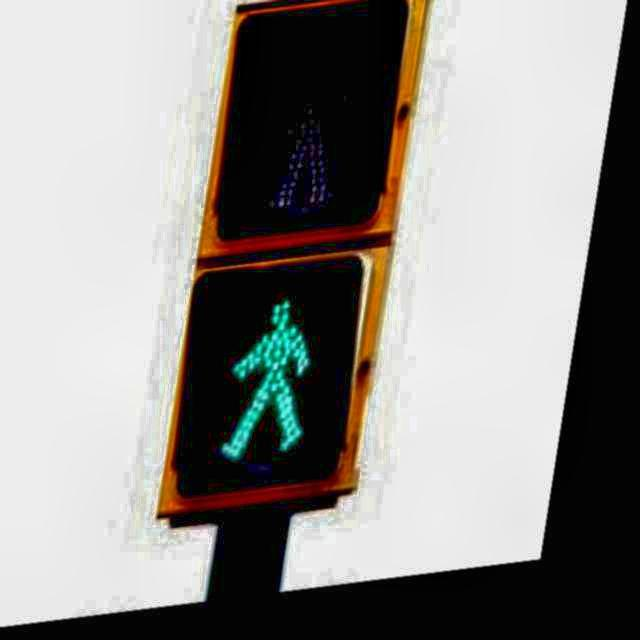semaforo pedestre: (79, 0, 510, 577)
